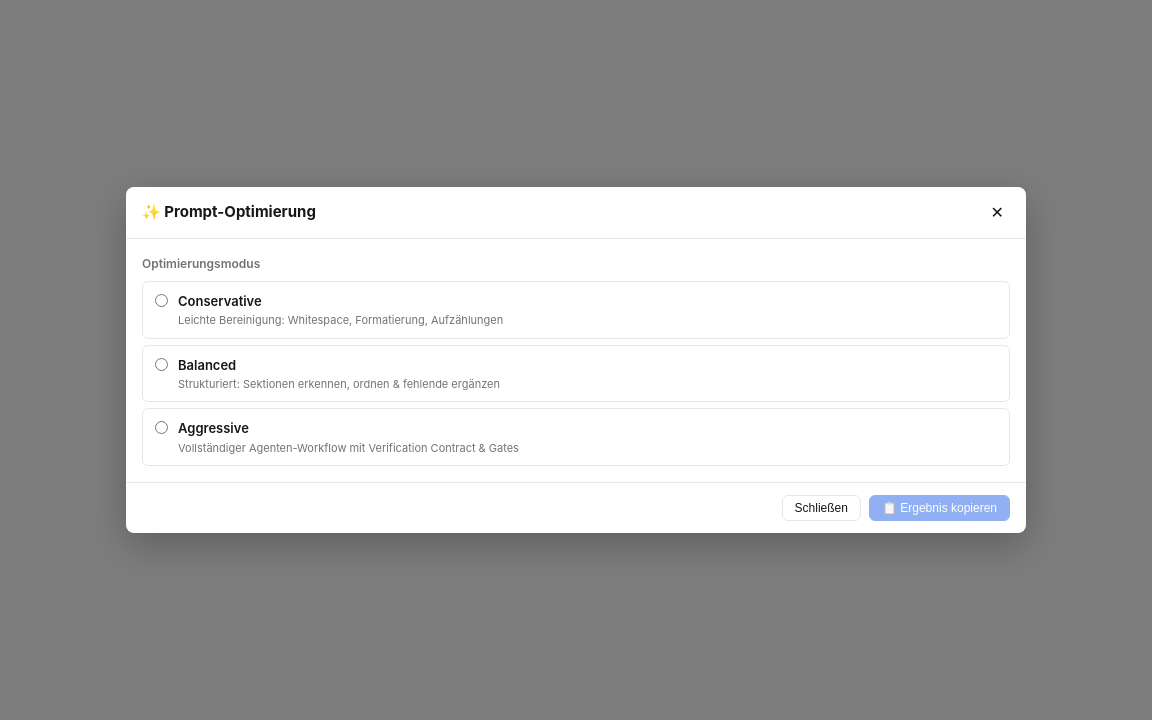
Test: OptimizationPanel › rendering › shows before and after sections after mode selection
Click the 1st radio button.
click(162, 300)  # box [155,294,168,307]
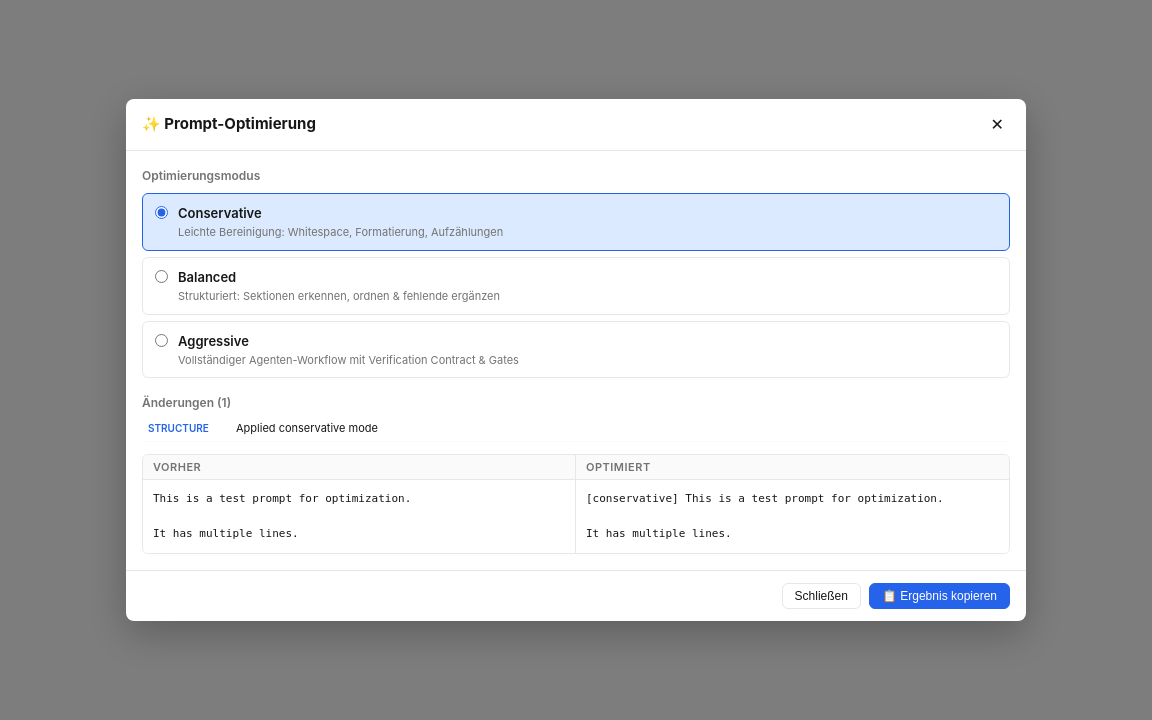
Expected: the heading "Vorher" is shown, [143,455,575,480]
Expected: the heading "Optimiert" is shown, [576,455,1009,480]
